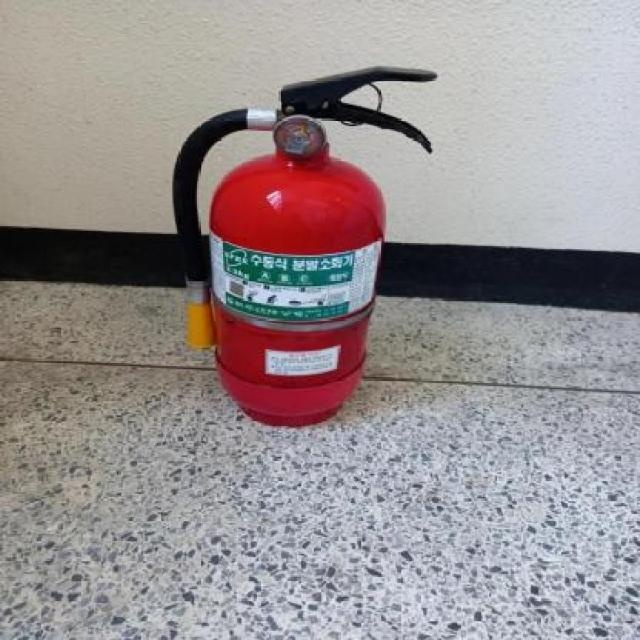fire extinguisher: (172, 65, 439, 428)
